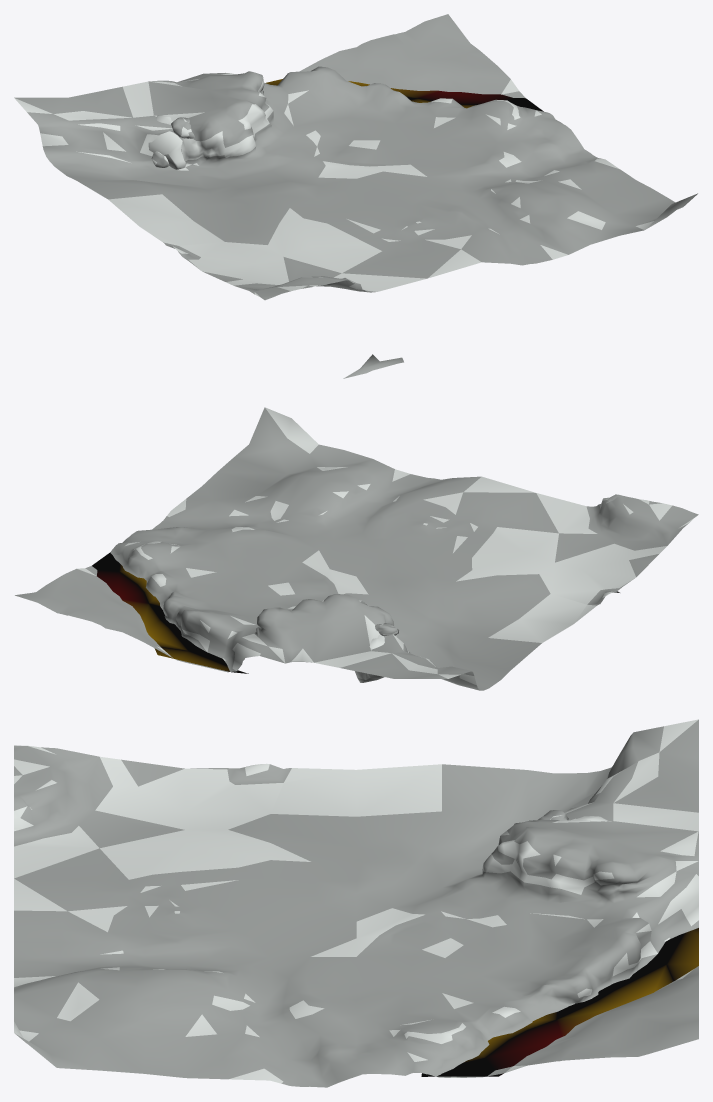
3 renders of one model, top to bottom at view 1: azimuth 30°, elevation 25°; view 2: azimuth 150°, elevation 25°; view 3: azimuth 270°, elevation 25°, orthographic. The views are drawn at different scales.
Parts seen in each view (by area): view 1: G:\FFXIV-MapTools\exports\f1f3\bg\ffxiv\fst_f1\fld\f1f3\bgpl (×12); view 2: G:\FFXIV-MapTools\exports\f1f3\bg\ffxiv\fst_f1\fld\f1f3\bgpl (×10); view 3: G:\FFXIV-MapTools\exports\f1f3\bg\ffxiv\fst_f1\fld\f1f3\bgpl (×14).
Boxes of the visible parts, x1,y1,x2,y2 form: G:\FFXIV-MapTools\exports\f1f3\bg\ffxiv\fst_f1\fld\f1f3\bgpl (×12): (14, 14, 697, 378); G:\FFXIV-MapTools\exports\f1f3\bg\ffxiv\fst_f1\fld\f1f3\bgpl (×10): (15, 407, 698, 690); G:\FFXIV-MapTools\exports\f1f3\bg\ffxiv\fst_f1\fld\f1f3\bgpl (×14): (14, 719, 698, 1087).
Bounding box in the file's own units: 128 × 32.89 × 128.
